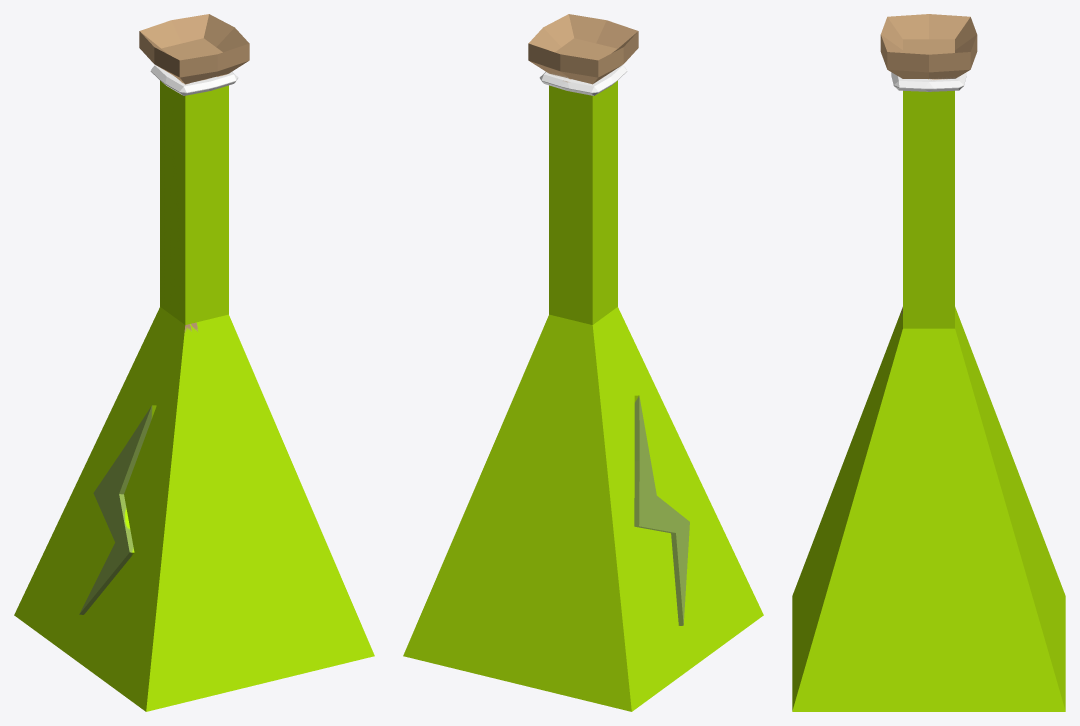
Rendered from StaminaPotion.gltf.
3 renders of one model, left to right at view 1: azimuth 30°, elevation 25°; view 2: azimuth 150°, elevation 25°; view 3: azimuth 270°, elevation 25°, orthographic. The views are drawn at different scales.
Parts seen in each view (by area): view 1: Stam. Potion; view 2: Stam. Potion; view 3: Stam. Potion.
Boxes of the visible parts, bbox=[...] form: Stam. Potion: bbox=[14, 14, 374, 711]; Stam. Potion: bbox=[403, 14, 763, 711]; Stam. Potion: bbox=[792, 14, 1065, 711].
Bounding box in the file's own units: 0.9335 × 2.33 × 0.9335.
1 material, 1 textured.
